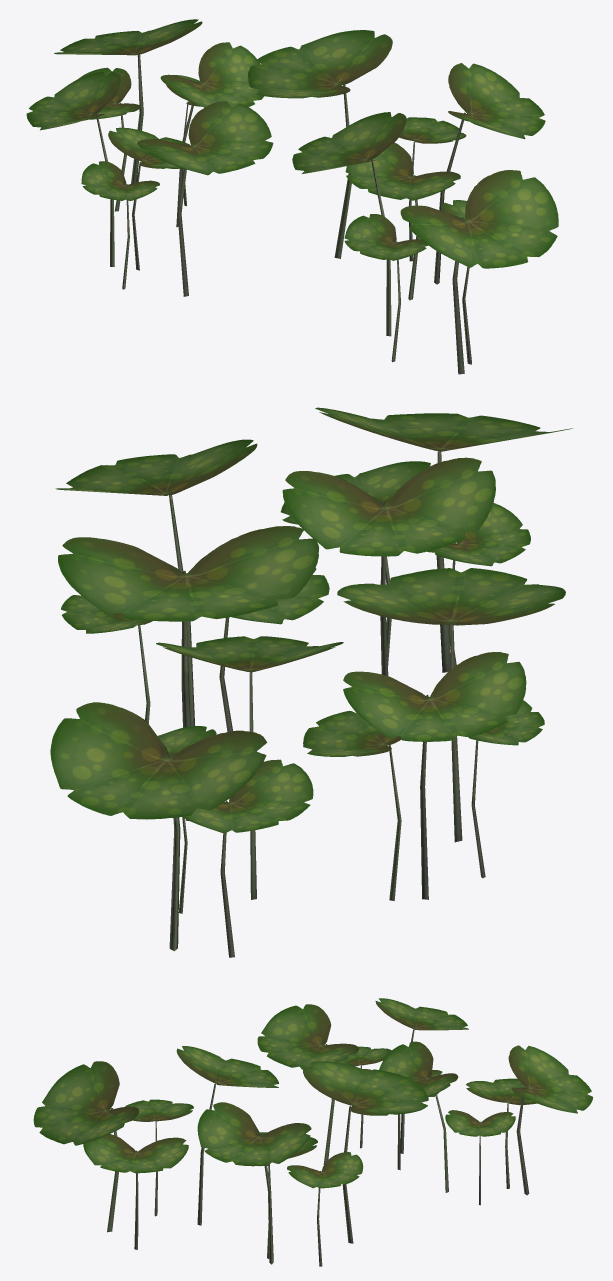
Rendered from tree_f.FBX.
3 renders of one model, top to bottom at view 1: azimuth 30°, elevation 25°; view 2: azimuth 150°, elevation 25°; view 3: azimuth 270°, elevation 25°, orthographic. The views are drawn at different scales.
Parts seen in each view (by area): view 1: tree_f; view 2: tree_f; view 3: tree_f.
Part boxes in pixels (x1,y1,x2,y2): tree_f: (26, 19, 558, 374); tree_f: (50, 407, 572, 957); tree_f: (33, 998, 593, 1266).
Bounding box in the file's own units: 2.63 × 1.23 × 3.64.
1 material, 1 textured.
